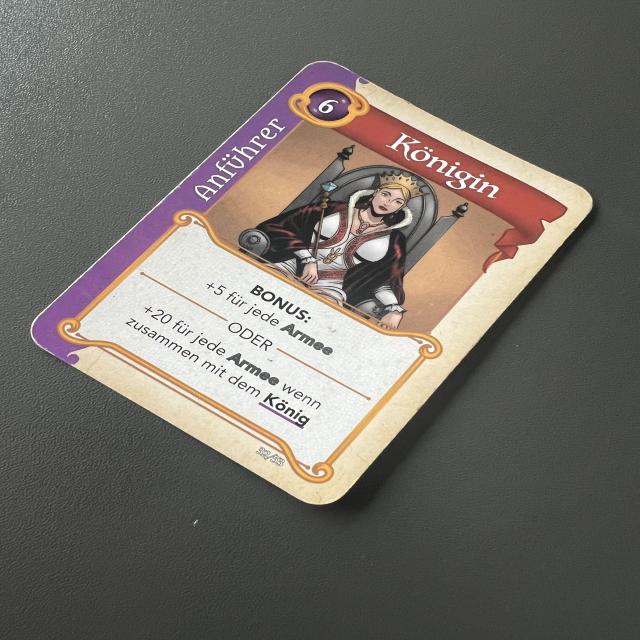Queen: (23, 55, 597, 517)
